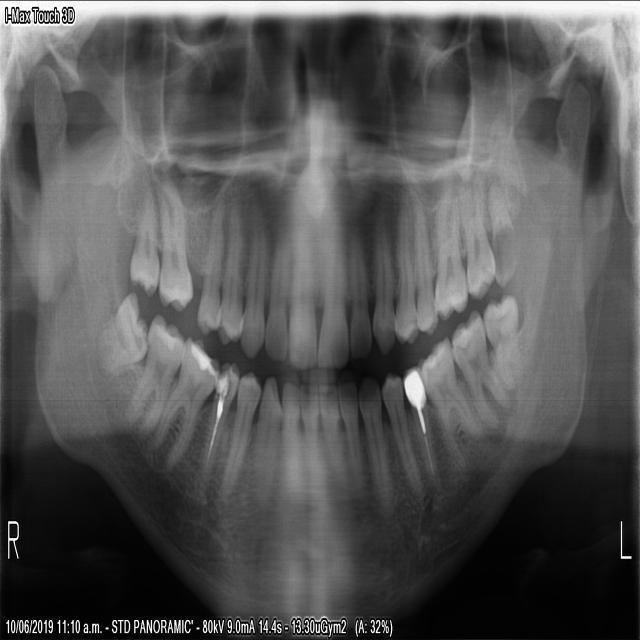LCD: (356, 370, 393, 520)
LCU: (370, 214, 393, 354)
LID: (334, 379, 363, 502), (315, 380, 347, 488)
LIU: (314, 219, 346, 365), (346, 229, 370, 359)
LMD: (414, 331, 481, 479), (448, 307, 510, 427), (480, 291, 521, 390)
LMU: (431, 189, 466, 319), (460, 173, 493, 298), (485, 176, 517, 285)
LPMD: (378, 371, 420, 507), (399, 364, 440, 493)
LPMU: (391, 208, 416, 343), (411, 205, 435, 333)
RCD: (249, 373, 279, 516)
RCU: (235, 215, 264, 359)
RID: (297, 383, 321, 498), (278, 378, 298, 514)
RIU: (284, 231, 314, 369), (262, 228, 286, 362)
RMD: (143, 331, 217, 471), (122, 310, 183, 437), (91, 289, 146, 375)
RMU: (155, 179, 191, 313), (126, 177, 157, 298)
RPMD: (194, 357, 238, 501), (214, 367, 259, 501)
RPMU: (212, 201, 241, 345), (193, 197, 221, 332)
